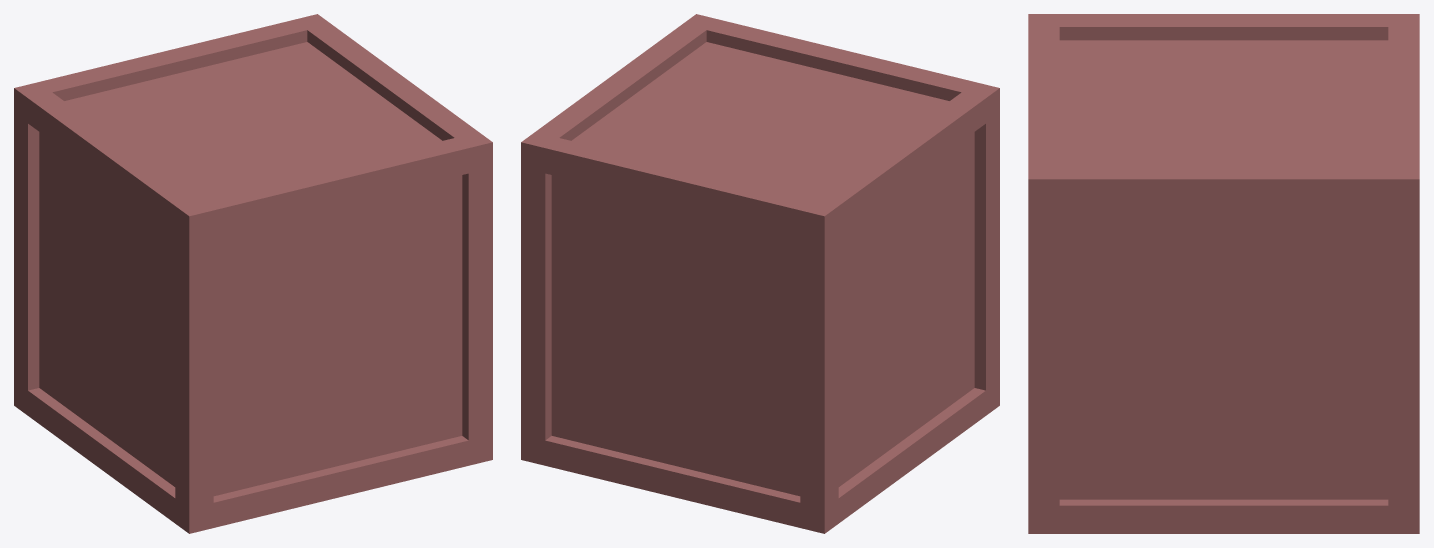
Rendered from Box_Wood.fbx.
3 views of the same model, side by side, from view 1: azimuth 30°, elevation 25°; view 2: azimuth 150°, elevation 25°; view 3: azimuth 270°, elevation 25° (orthographic). The views are drawn at different scales.
Visible parts, largest first — view 1: Box_Wood; view 2: Box_Wood; view 3: Box_Wood.
Boxes of the visible parts, box(x1,y1,x2,y2) form: Box_Wood: box(14, 14, 492, 533); Box_Wood: box(521, 14, 999, 533); Box_Wood: box(1028, 14, 1419, 533).
Bounding box in the file's own units: 90.37 × 90.37 × 90.37.
